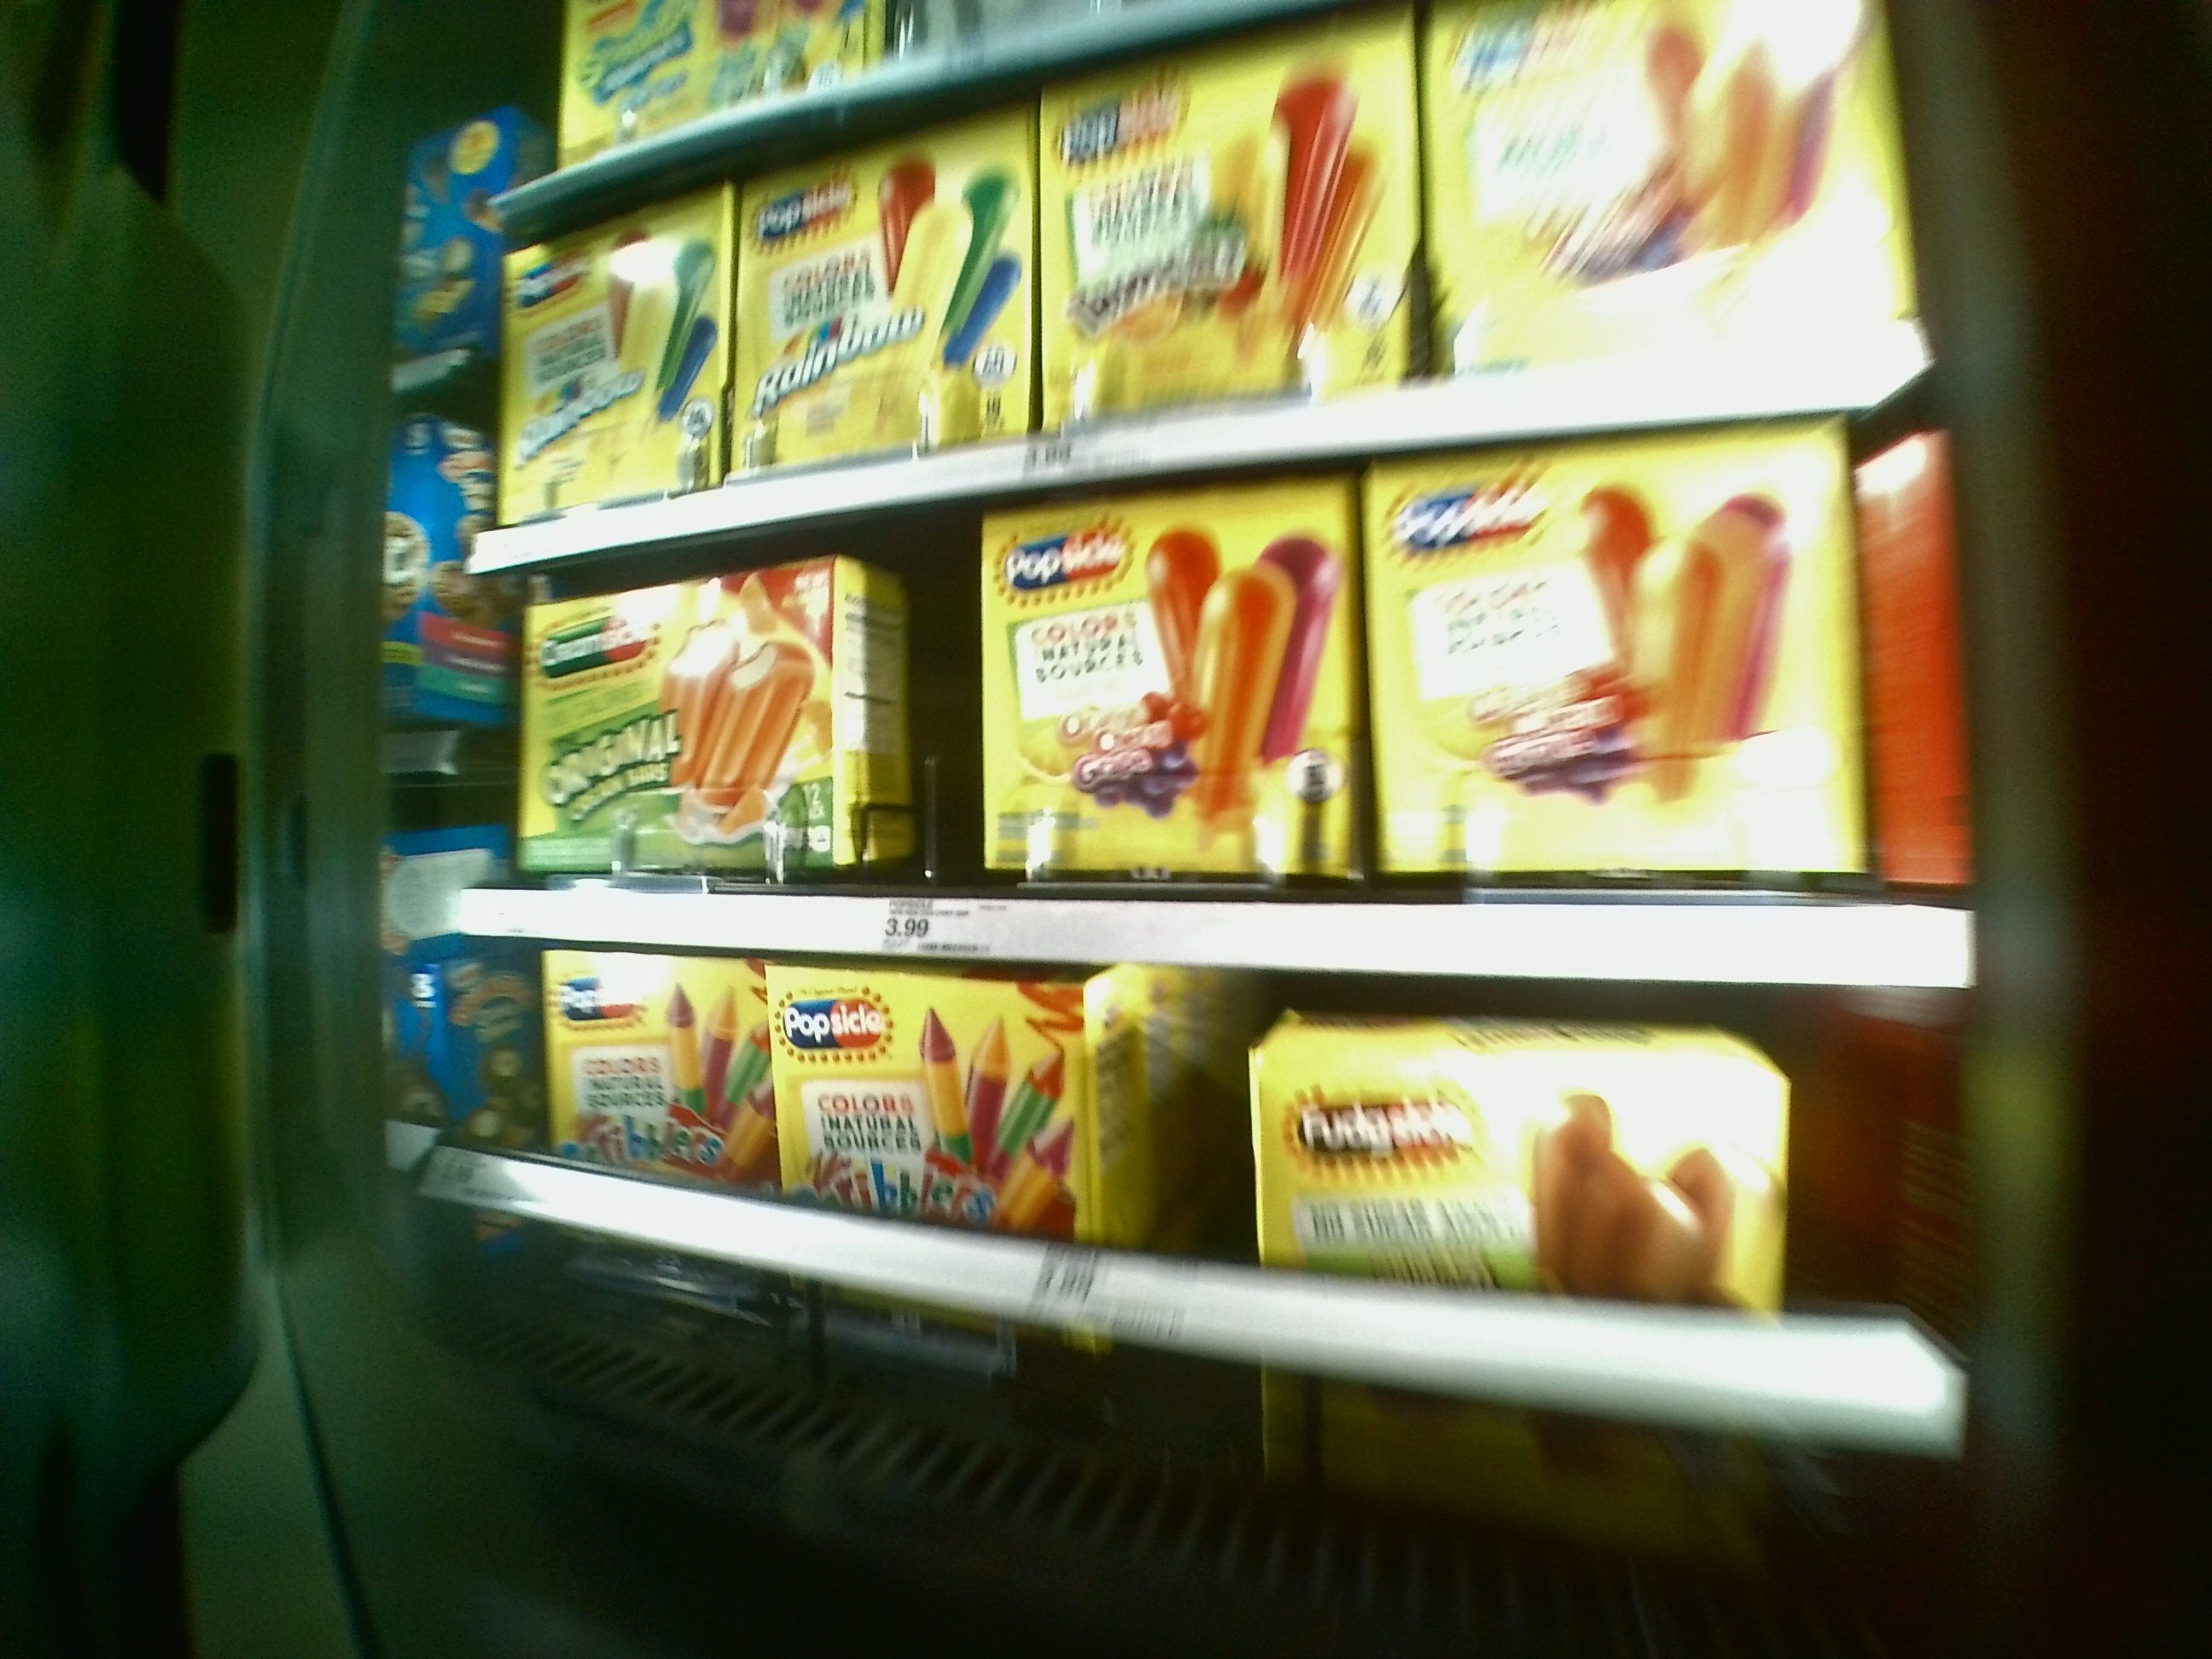shelf: (486, 955, 1921, 1581), (469, 493, 1956, 990), (481, 71, 1858, 498)
